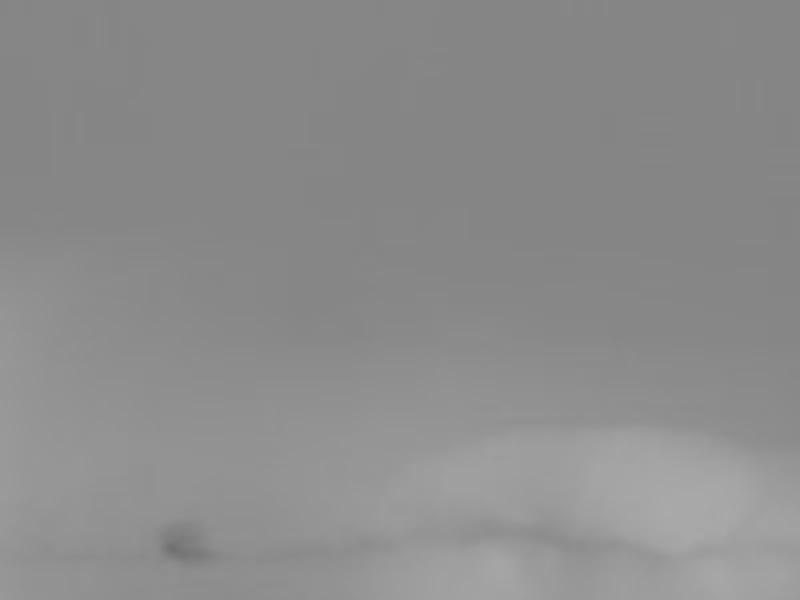defect: (161, 521, 207, 563)
